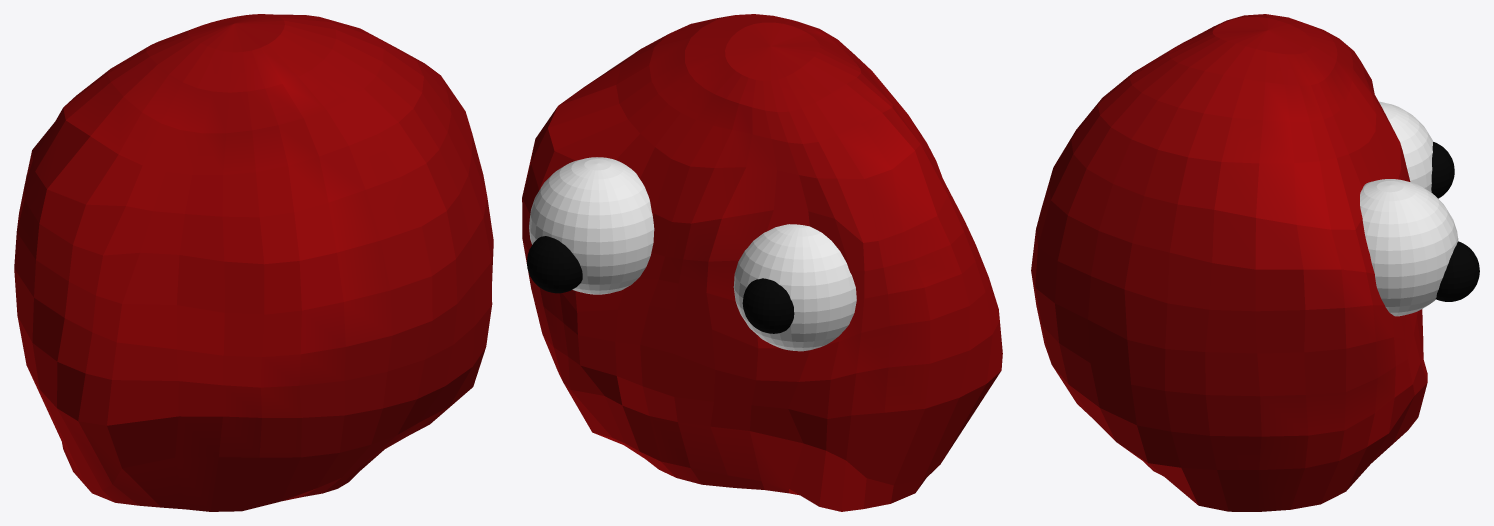
The model's file is evil_guy-2.fbx.
3 views of the same model, side by side, from view 1: azimuth 30°, elevation 25°; view 2: azimuth 150°, elevation 25°; view 3: azimuth 270°, elevation 25° (orthographic). The views are drawn at different scales.
Visible parts, largest first — view 1: Sphere; view 2: Sphere, Sphere.002, Sphere.001, Sphere.004, Sphere.003; view 3: Sphere, Sphere.002, Sphere.001, Sphere.004, Sphere.003.
Part boxes in pixels (box(x1,y1,x2,y2)): Sphere: box(14, 14, 493, 511); Sphere: box(522, 14, 1002, 511); Sphere.002: box(529, 157, 654, 294); Sphere.001: box(733, 224, 856, 351); Sphere.004: box(527, 236, 582, 293); Sphere.003: box(742, 278, 794, 333); Sphere: box(1031, 14, 1427, 511); Sphere.002: box(1360, 179, 1458, 316); Sphere.001: box(1379, 101, 1433, 192); Sphere.004: box(1435, 241, 1479, 301); Sphere.003: box(1431, 142, 1454, 198).
Bounding box in the file's own units: 248 × 238 × 231.
